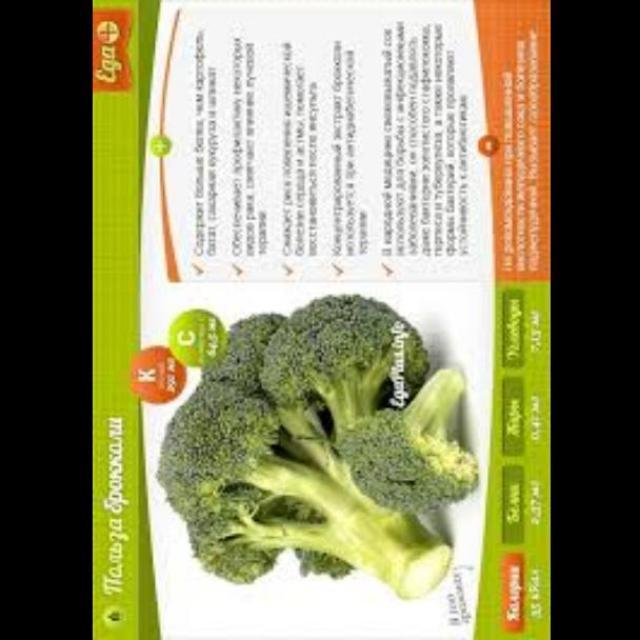Broccoli: (150, 273, 487, 612), (338, 342, 476, 512)
